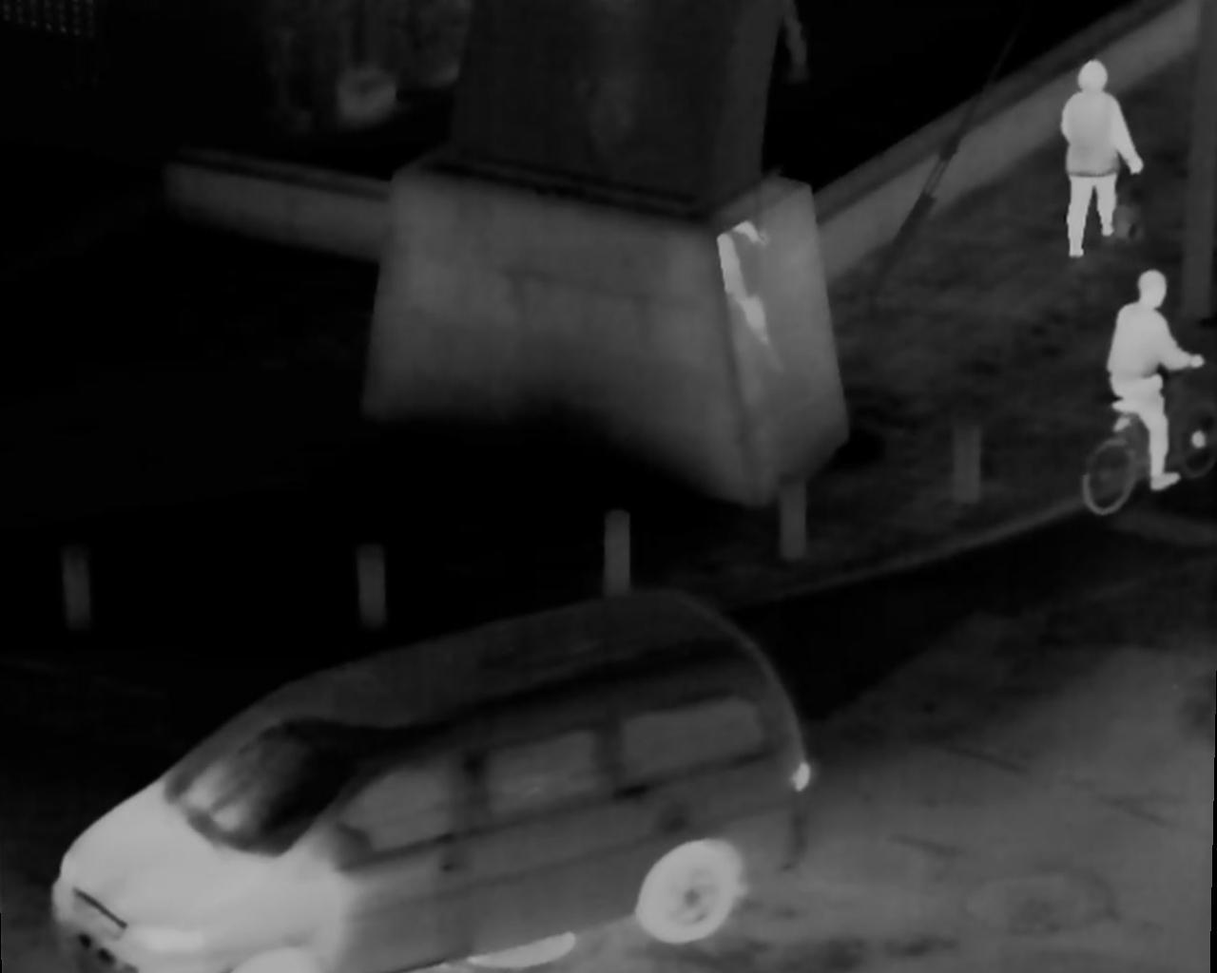person: (1048, 55, 1140, 258), (1106, 276, 1188, 501)
